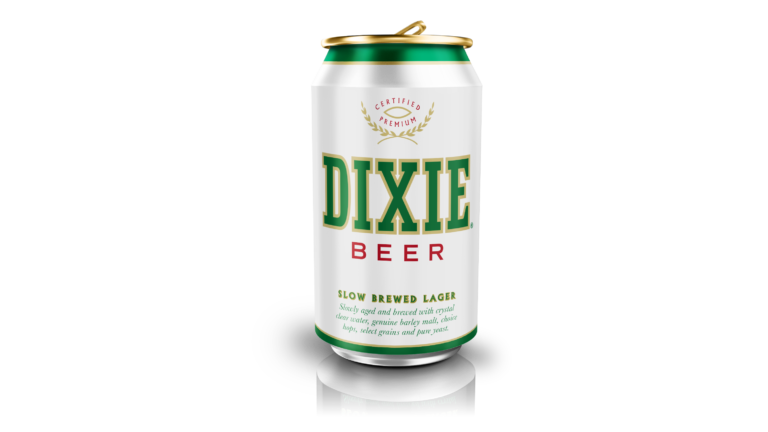beer can: (309, 31, 487, 372)
